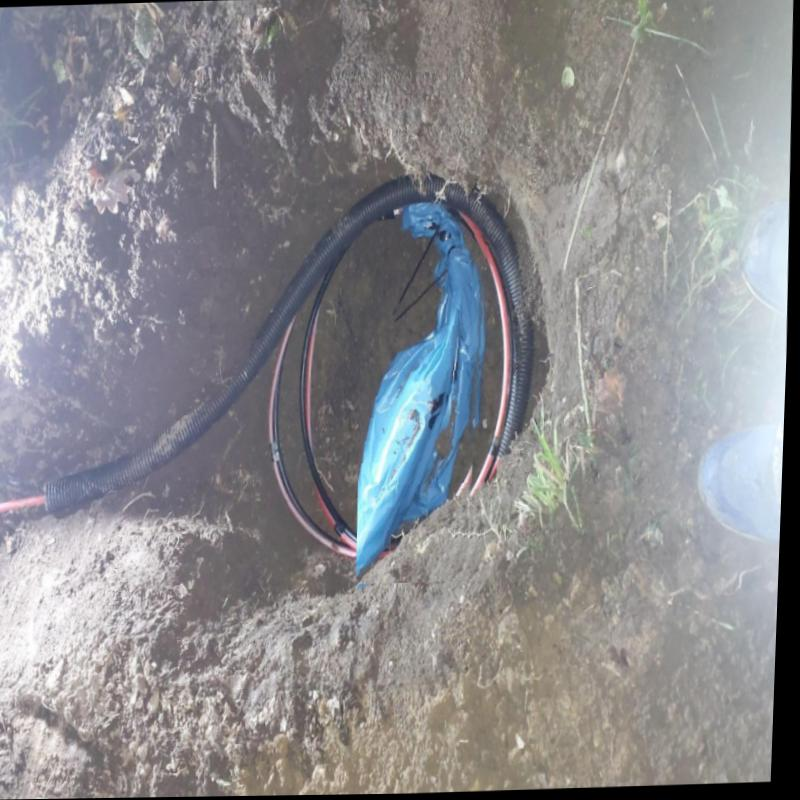NT-Muffen: (360, 205, 485, 583)
